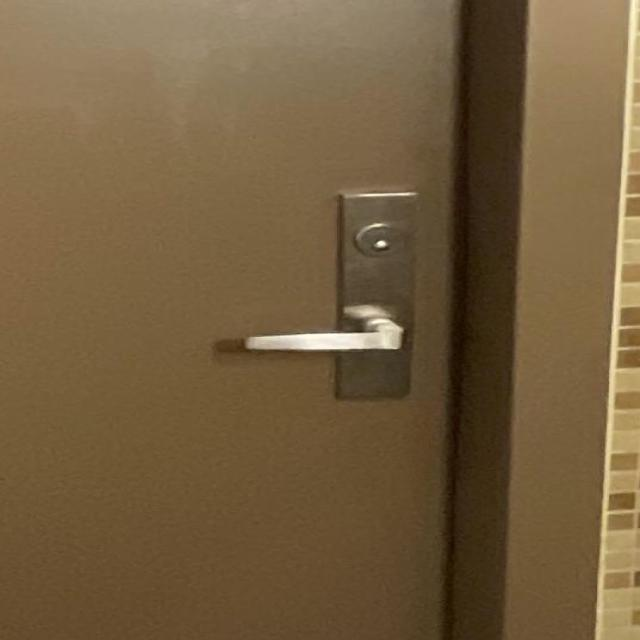door_handle: (219, 304, 427, 363)
